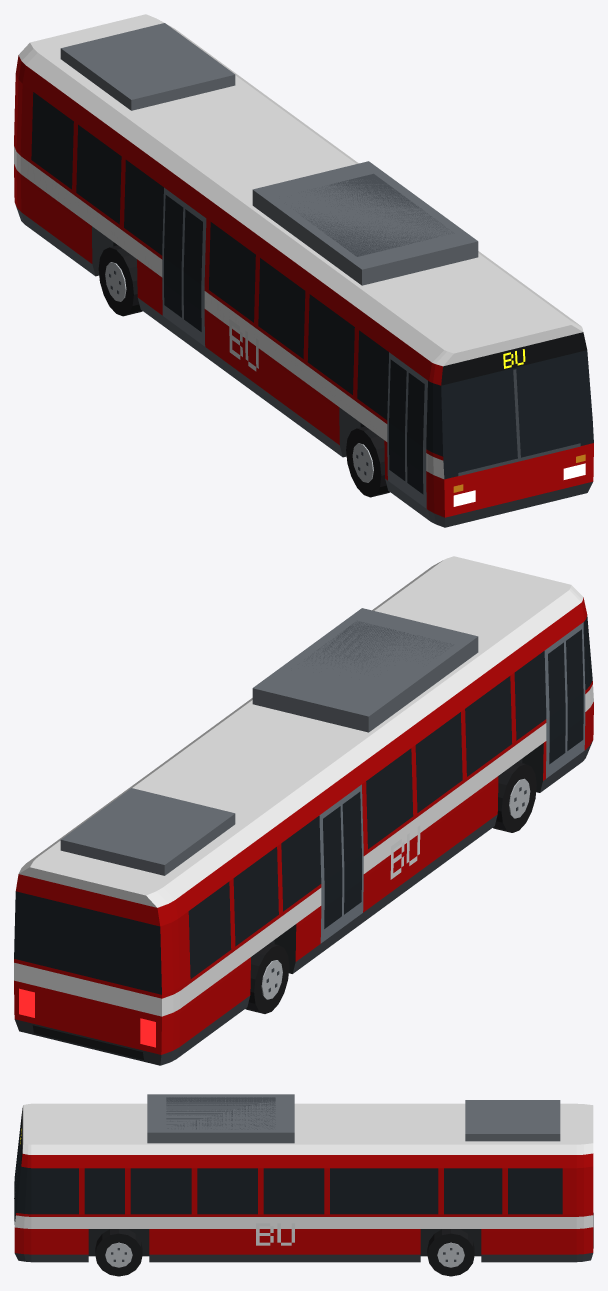
Rendered from bu-shuttle.glb.
3 views of the same model, one above another, from view 1: azimuth 30°, elevation 25°; view 2: azimuth 150°, elevation 25°; view 3: azimuth 270°, elevation 25° (orthographic). The views are drawn at different scales.
Parts seen in each view (by area): view 1: bu-shuttle; view 2: bu-shuttle; view 3: bu-shuttle.
Part boxes in pixels (bbox=[...]): bu-shuttle: bbox=[14, 14, 593, 527]; bu-shuttle: bbox=[14, 556, 593, 1065]; bu-shuttle: bbox=[14, 1094, 593, 1276].
Bounding box in the file's own units: 2.64 × 3.2 × 12.22.
